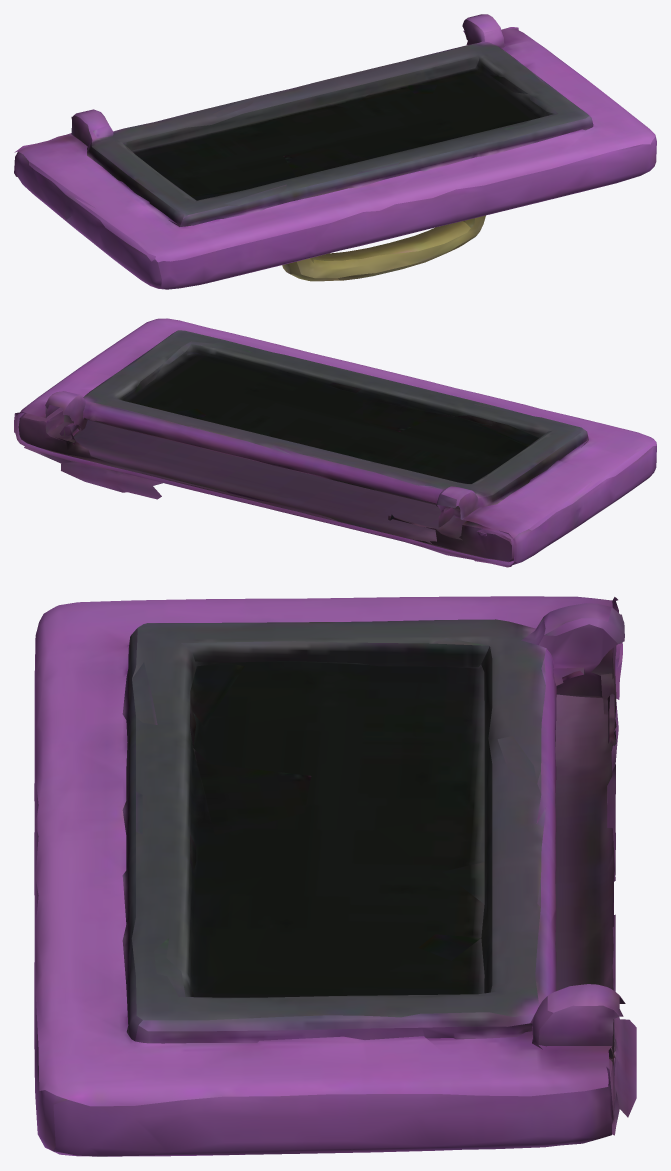
Rendered from oven_door.glb.
The picture shows the model from 3 angles, top to bottom: view 1: azimuth 30°, elevation 25°; view 2: azimuth 150°, elevation 25°; view 3: azimuth 270°, elevation 25°; orthographic projection. The views are drawn at different scales.
Parts seen in each view (by area): view 1: geometry_0; view 2: geometry_0; view 3: geometry_0.
Part boxes in pixels (x1,y1,x2,y2): geometry_0: (14,14,656,289); geometry_0: (14,318,656,567); geometry_0: (34,596,636,1156).
Bounding box in the file's own units: 0.2389 × 0.0521 × 0.1219.
Materials: 1 (1 with a texture image).
